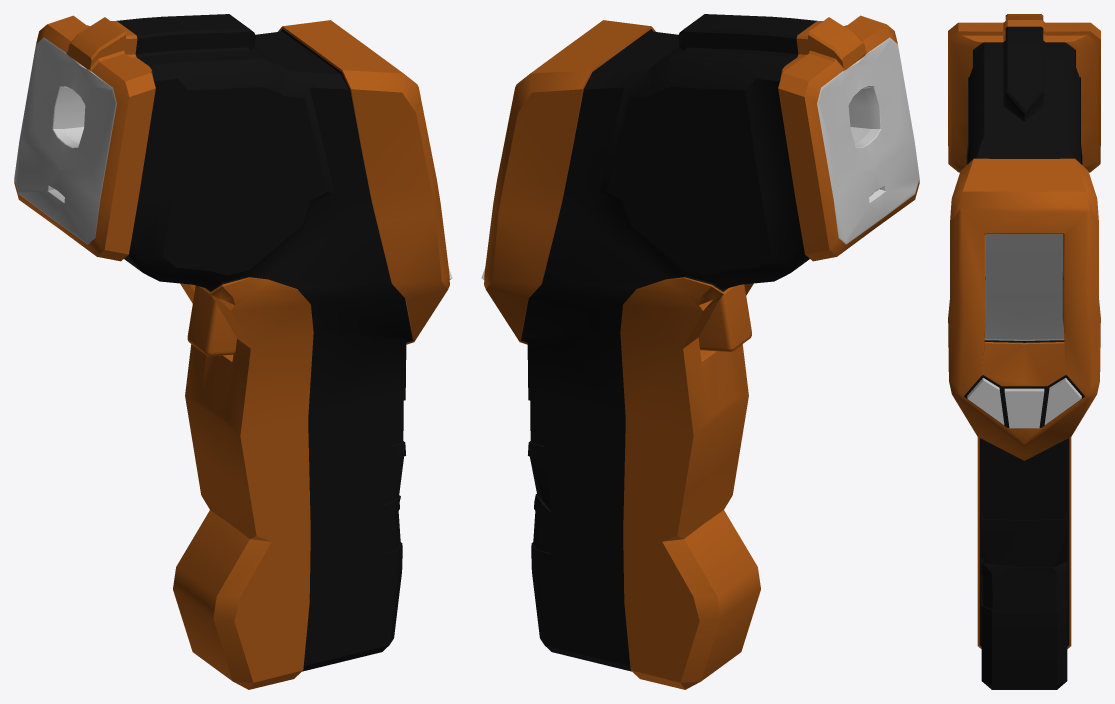
Rendered from Infrared Thermometer 1.FBX.
The picture shows the model from 3 angles, left to right: view 1: azimuth 30°, elevation 25°; view 2: azimuth 150°, elevation 25°; view 3: azimuth 270°, elevation 25°; orthographic projection. The views are drawn at different scales.
Parts seen in each view (by area): view 1: node_id15 (×3); view 2: node_id15 (×3); view 3: node_id15 (×4).
Boxes of the visible parts, x1=… form: node_id15 (×3): x1=14, y1=14, x2=452, y2=689; node_id15 (×3): x1=481, y1=14, x2=919, y2=689; node_id15 (×4): x1=948, y1=14, x2=1100, y2=689.
Bounding box in the file's own units: 0.289 × 0.512 × 0.1233.
